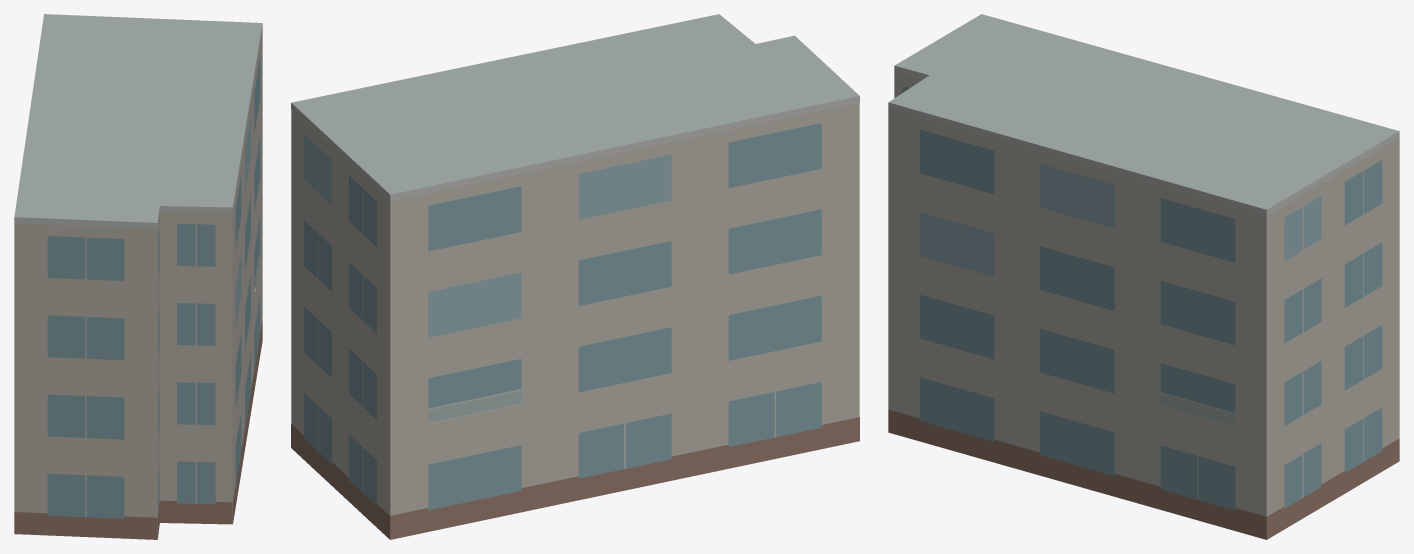
Rendered from survey-upis-32674574.glb.
3 views of the same model, side by side, from view 1: azimuth 30°, elevation 25°; view 2: azimuth 150°, elevation 25°; view 3: azimuth 270°, elevation 25° (orthographic). The views are drawn at different scales.
Parts seen in each view (by area): view 1: survey-upis-32674574.tmp; view 2: survey-upis-32674574.tmp; view 3: survey-upis-32674574.tmp.
Part boxes in pixels (bbox=[...]): survey-upis-32674574.tmp: bbox=[14, 14, 262, 539]; survey-upis-32674574.tmp: bbox=[291, 14, 859, 539]; survey-upis-32674574.tmp: bbox=[888, 14, 1399, 539].
Bounding box in the file's own units: 15.91 × 12.5 × 17.55.
